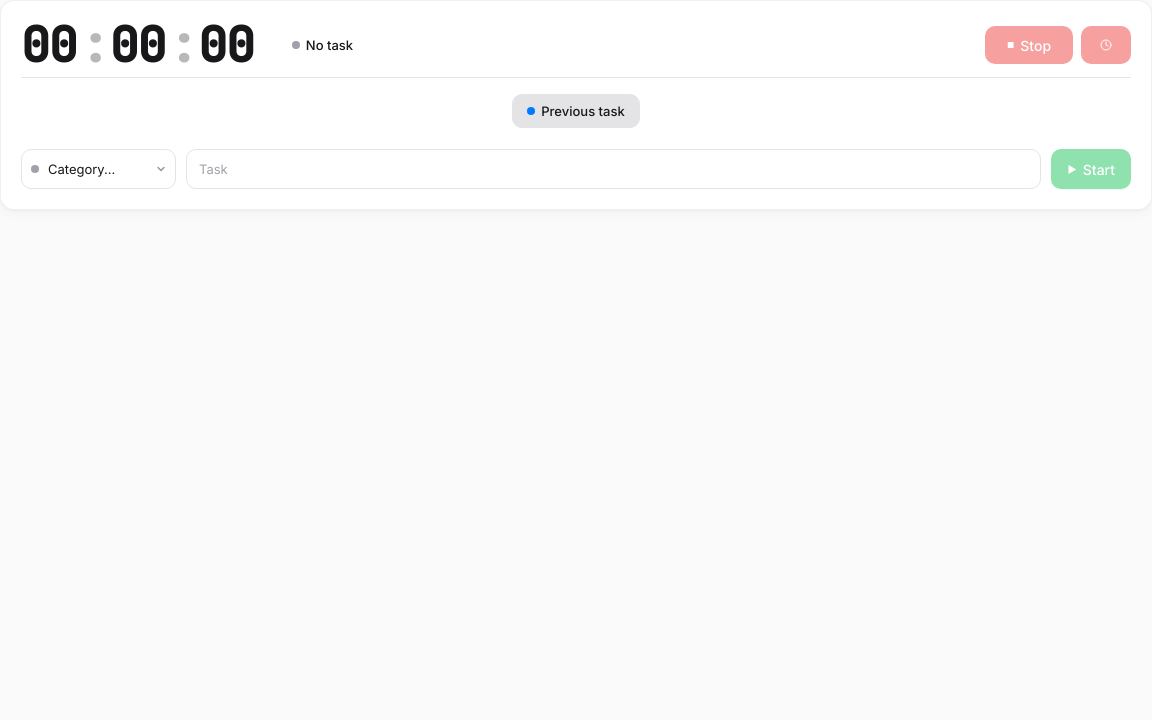
it: TimeTracker › handles click outside suggestions to close them
Select "Development" in the dropdown: (98, 169) [21,149,176,189]
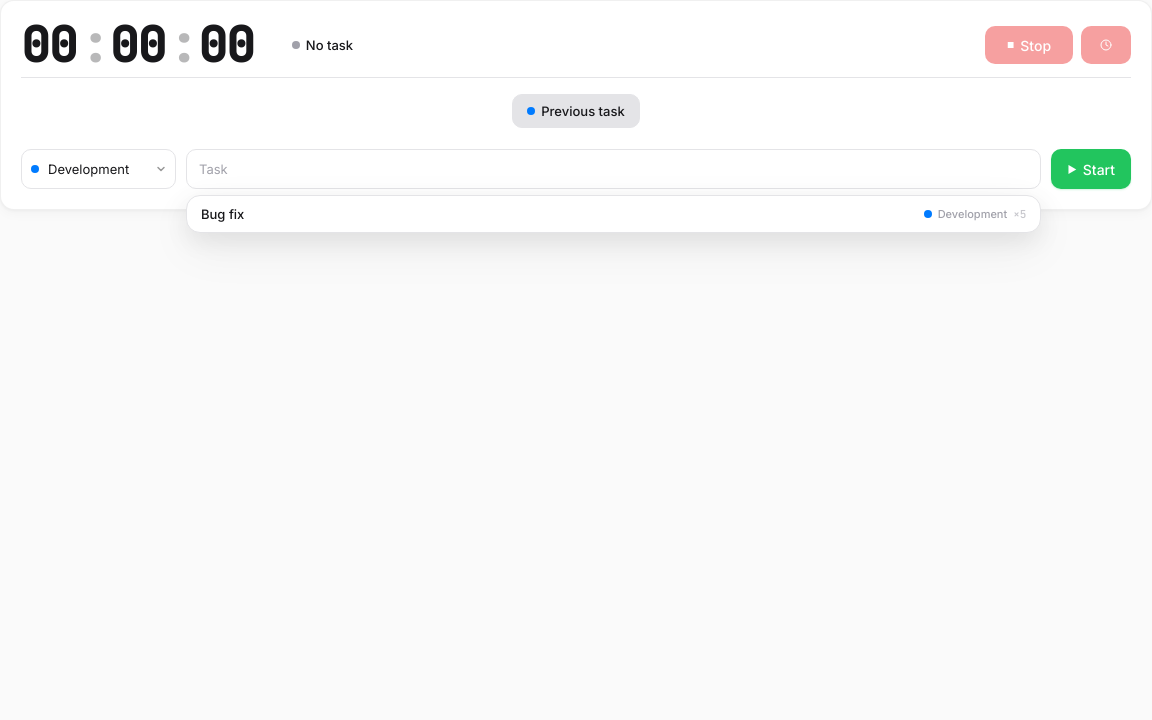
In the field with placeholder "Task": (614, 169) [186,149,1042,189], type "Bug"
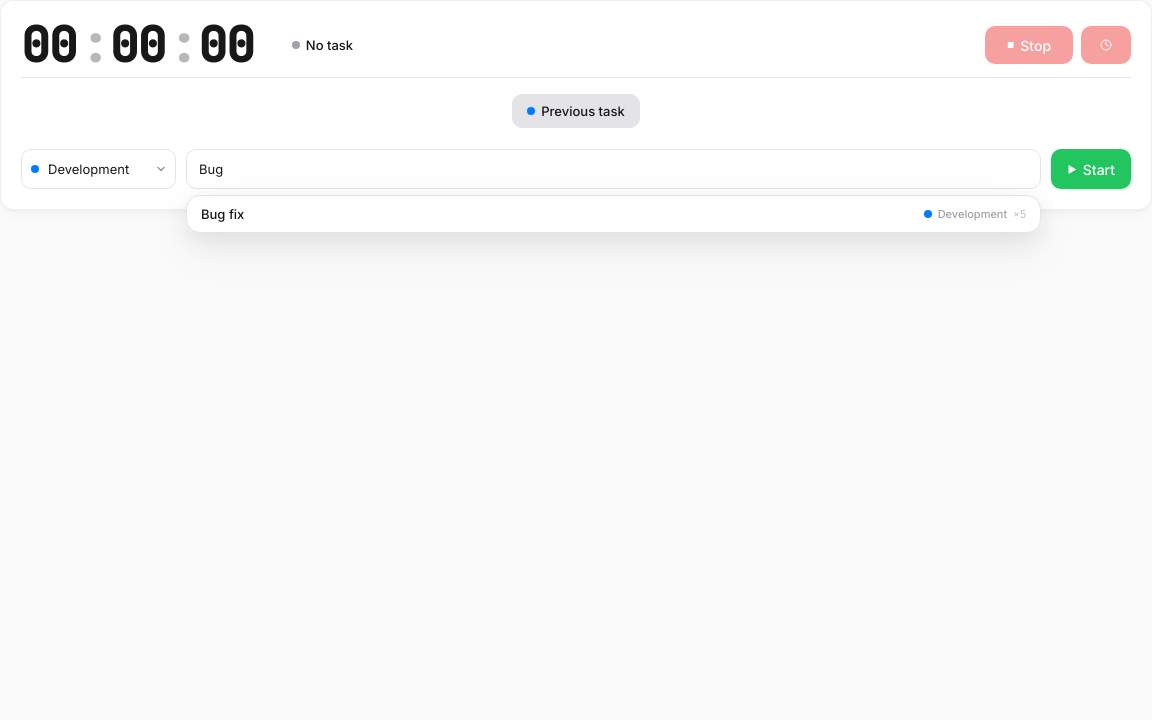
Check: the text "Bug fix" is shown, box [201,206,244,222]
Note: Click outside
Press the mouse on the element that starts with "No task": (576, 360) [0,0,1151,719]
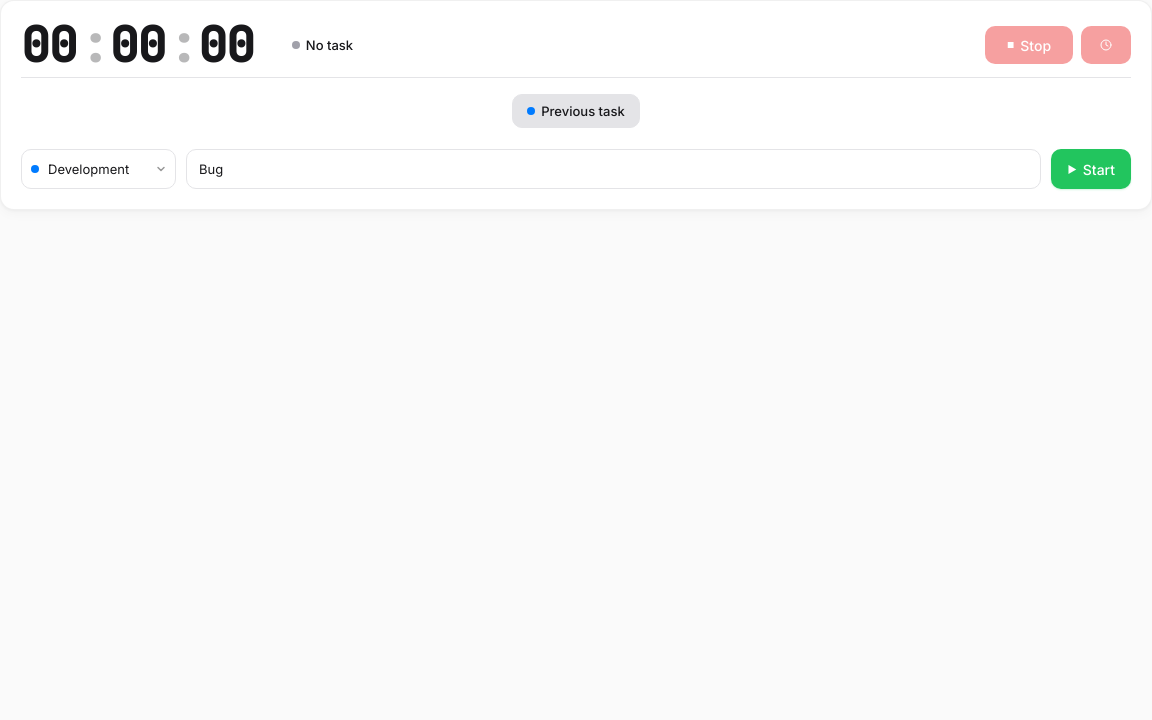
Check: the button "Bug fix" is gone
